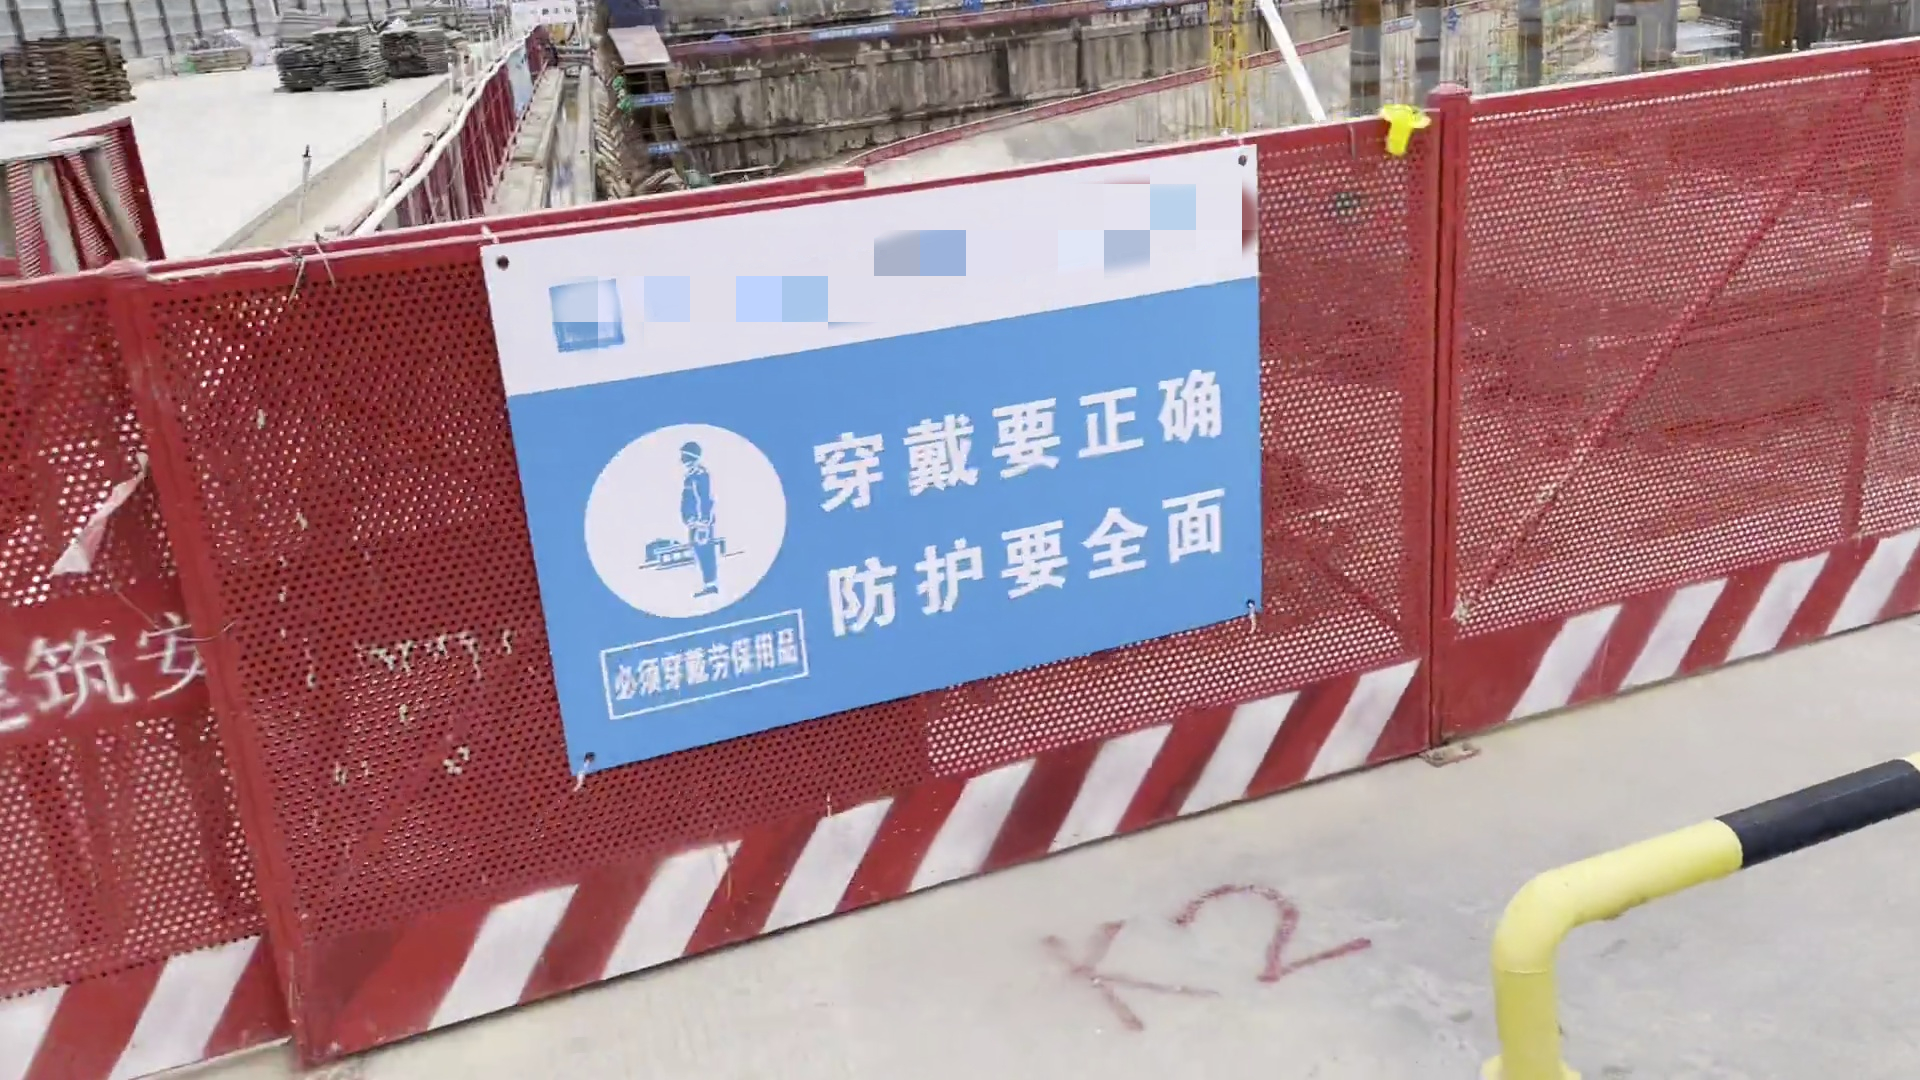fence: (709, 100, 1495, 975), (1, 224, 779, 1080), (1435, 32, 1920, 756), (452, 22, 568, 280)
slogan: (475, 127, 1337, 851)
